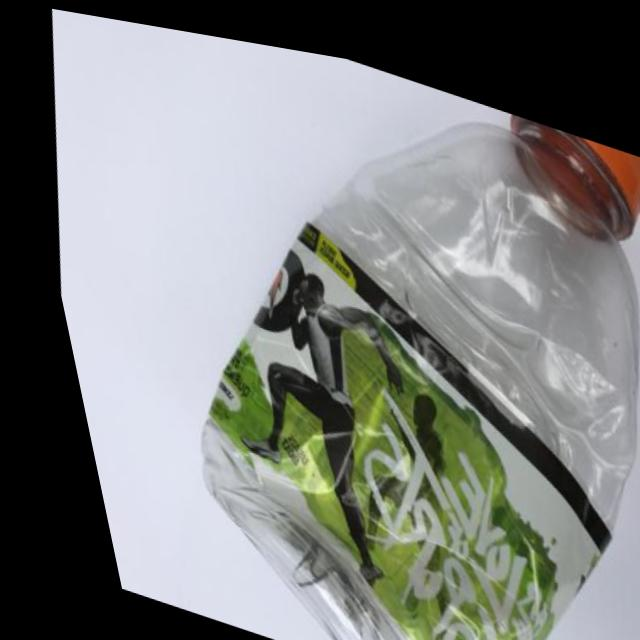plastic: (33, 4, 640, 640)
